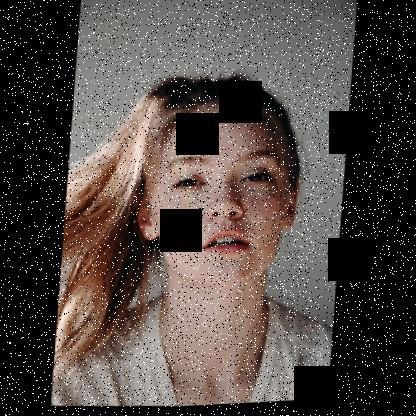Female: (131, 99, 306, 293)
